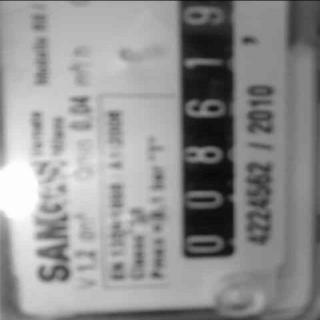1: (185, 233, 228, 258), (183, 188, 225, 210)
2: (183, 52, 226, 73)
7: (183, 97, 230, 122)
9: (183, 142, 224, 166)
:: (182, 3, 227, 29)
